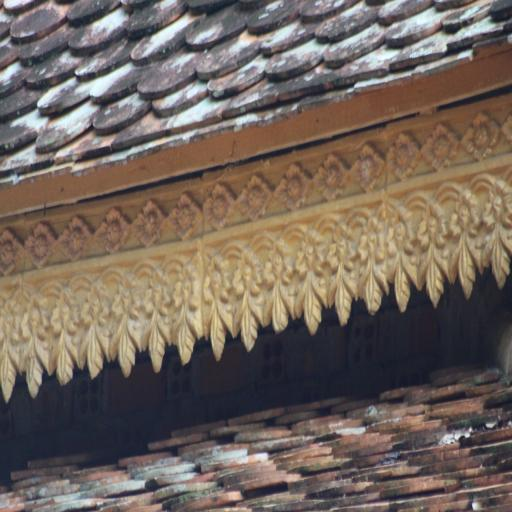hoa: (272, 160, 316, 214), (422, 120, 462, 176), (461, 108, 501, 164), (236, 172, 274, 228), (132, 194, 170, 248), (315, 154, 353, 208), (386, 134, 424, 187), (352, 137, 386, 196), (94, 206, 134, 256), (204, 175, 238, 233), (23, 221, 61, 269), (168, 192, 202, 243), (63, 210, 95, 261), (0, 226, 24, 270)
la: (138, 267, 180, 376), (417, 195, 453, 311), (108, 276, 148, 378), (450, 189, 486, 302), (477, 174, 512, 288), (293, 231, 330, 336), (78, 282, 114, 389), (48, 286, 85, 389), (386, 204, 420, 315), (169, 265, 204, 369), (258, 245, 296, 339), (20, 290, 52, 401), (357, 212, 390, 318), (206, 260, 238, 364), (236, 251, 268, 354), (329, 233, 359, 328), (0, 299, 22, 404)
